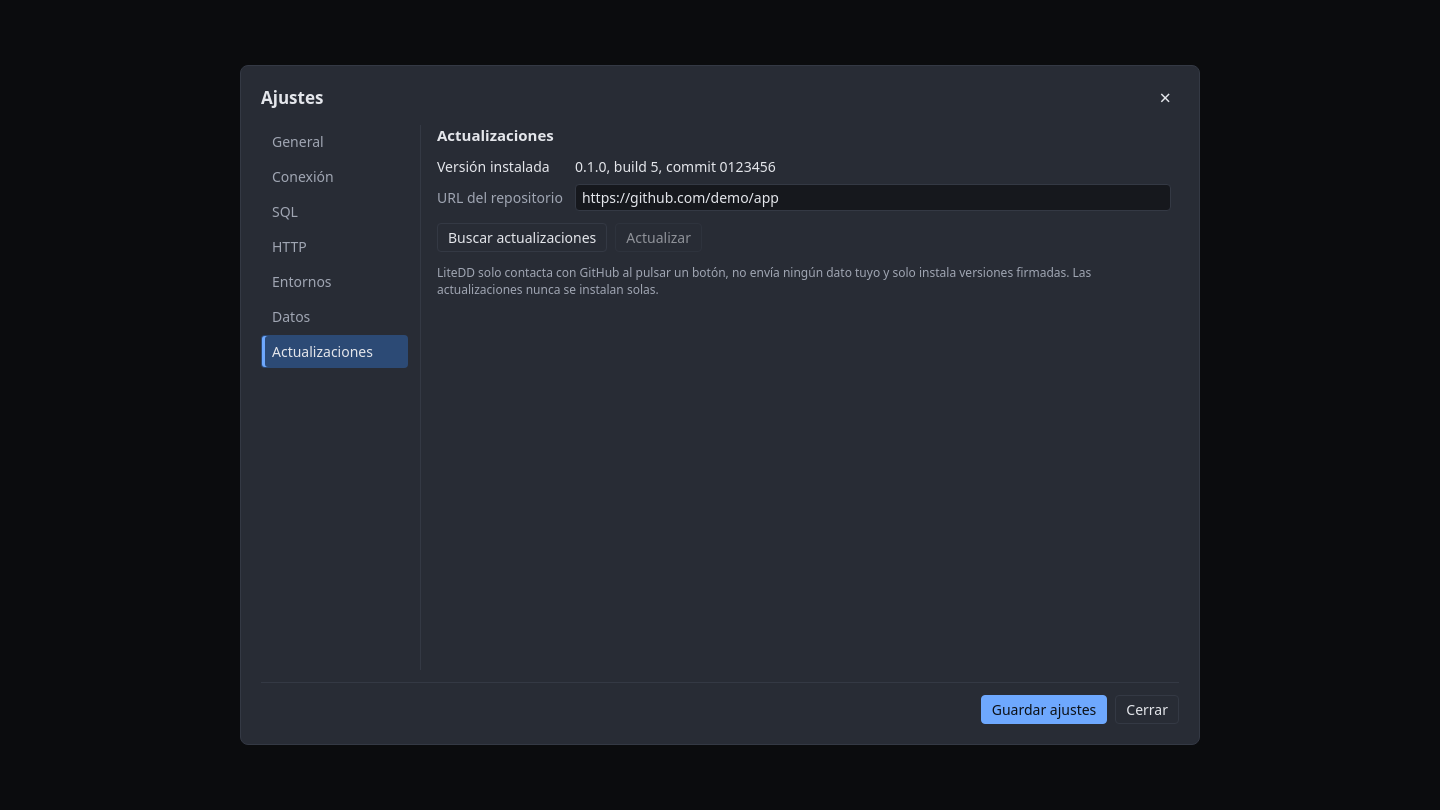
Test: R-13 búsqueda › R-13 con una versión nueva muestra build, fecha, commit y commits, y activa «Actualizar»
Step 1. Click the button "Buscar actualizaciones" → [522, 238], box [437, 223, 607, 252]
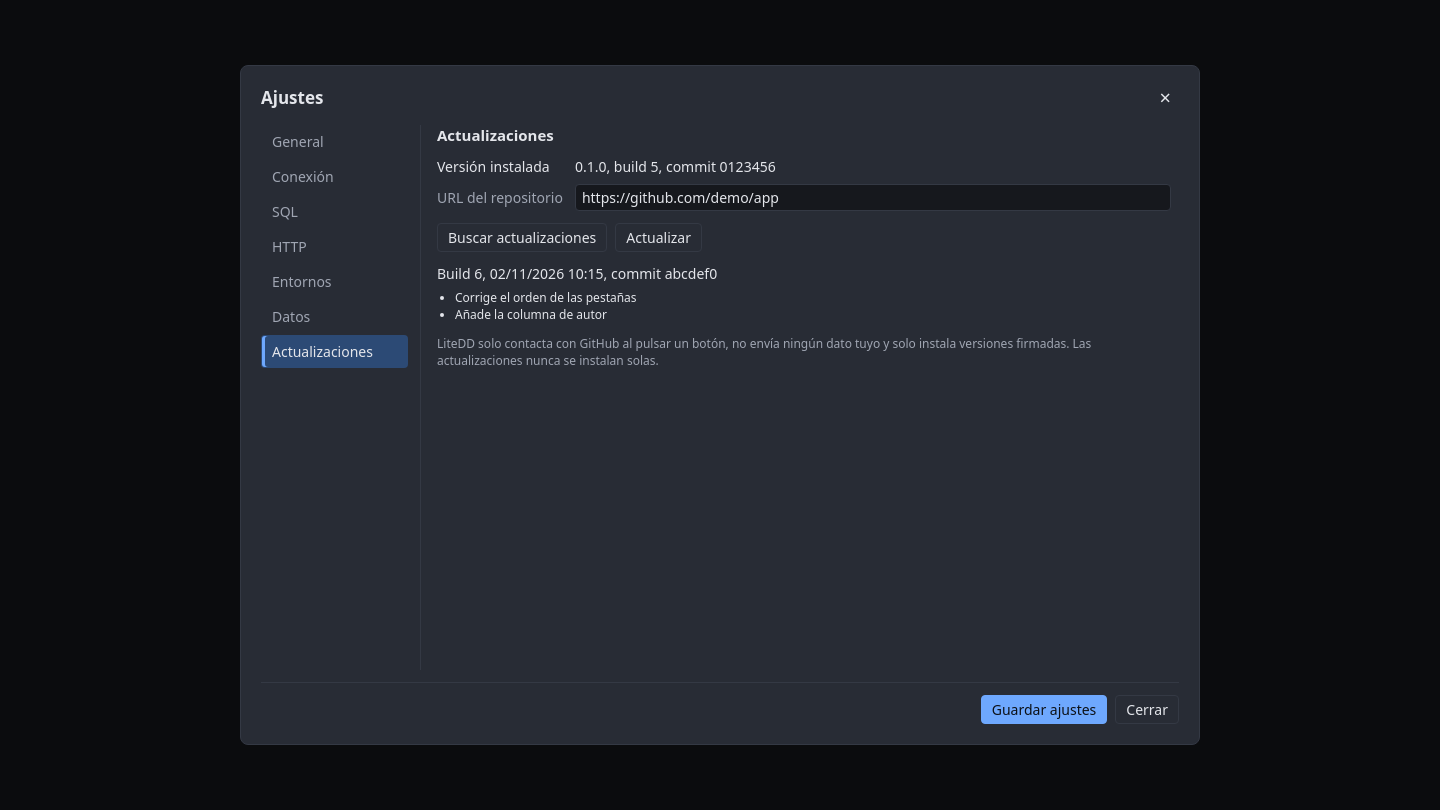
Now the text "Build 6, 02/11/2026 10:15, commit abcdef0" is shown, box [437, 264, 717, 283]
Now the list item "Corrige el orden de las pestañas" is shown, box [455, 289, 637, 306]
Now the list item "Añade la columna de autor" is shown, box [455, 306, 607, 323]
